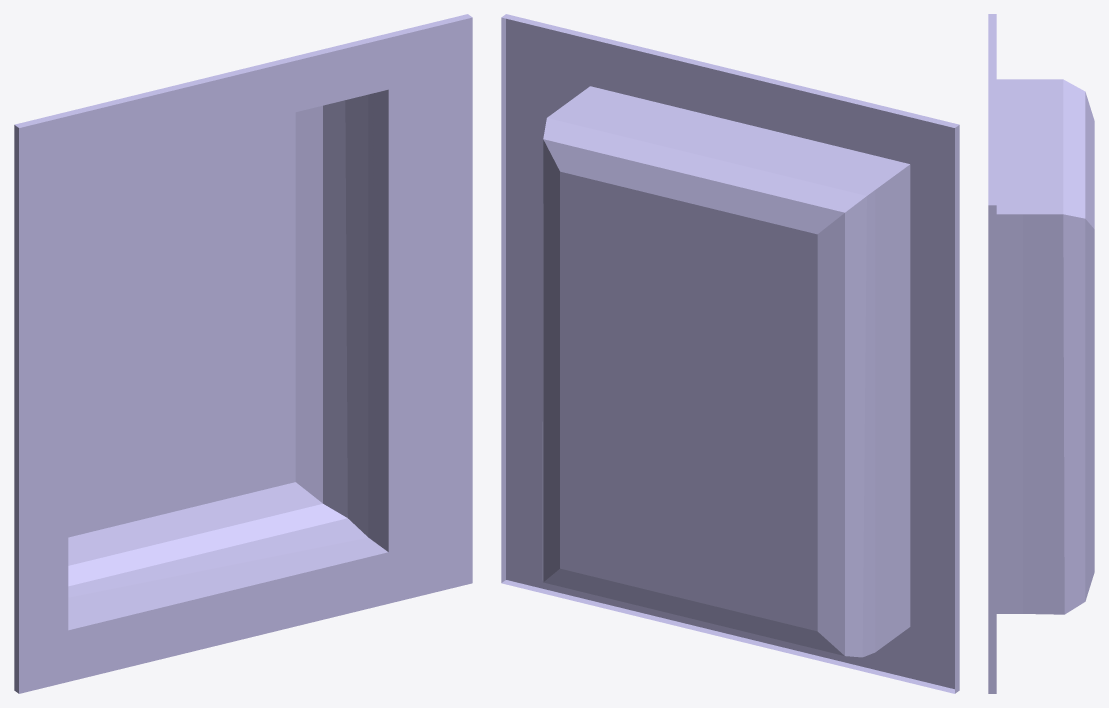
The model's file is sink.obj.
The picture shows the model from 3 angles, left to right: view 1: azimuth 30°, elevation 25°; view 2: azimuth 150°, elevation 25°; view 3: azimuth 270°, elevation 25°; orthographic projection. The views are drawn at different scales.
Visible parts, largest first — view 1: Cube.145_Cube.173_darck_whitr; view 2: Cube.145_Cube.173_darck_whitr; view 3: Cube.145_Cube.173_darck_whitr.
Part boxes in pixels (<box>): Cube.145_Cube.173_darck_whitr: <box>14,14,472,693</box>; Cube.145_Cube.173_darck_whitr: <box>501,14,959,693</box>; Cube.145_Cube.173_darck_whitr: <box>988,14,1094,693</box>.
Size of the model in its own units: 0.0768 by 0.0916 by 0.018.
